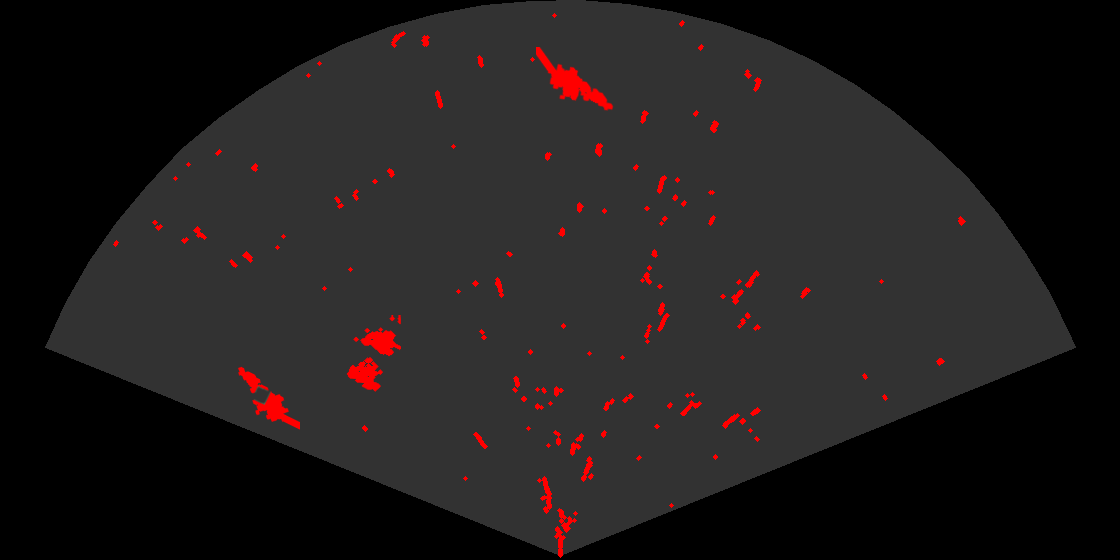cage: (345, 315, 401, 393)
frogman: (536, 47, 615, 112), (236, 365, 300, 431)
